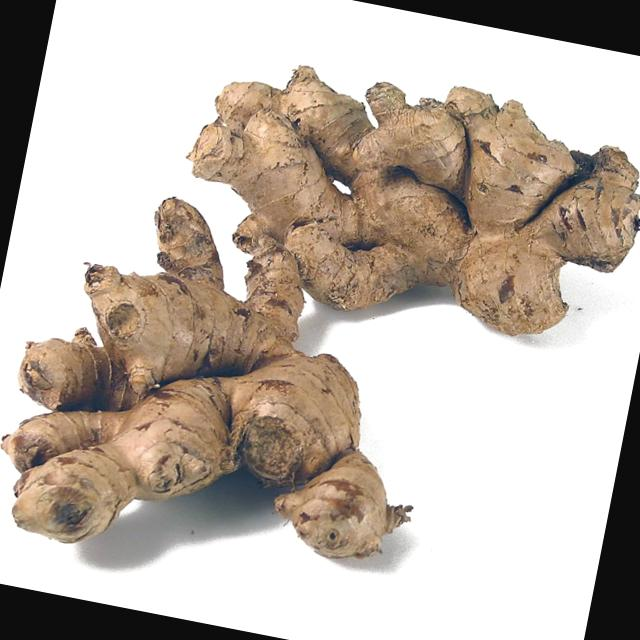ginger-root: (0, 103, 444, 595), (150, 29, 640, 384)
